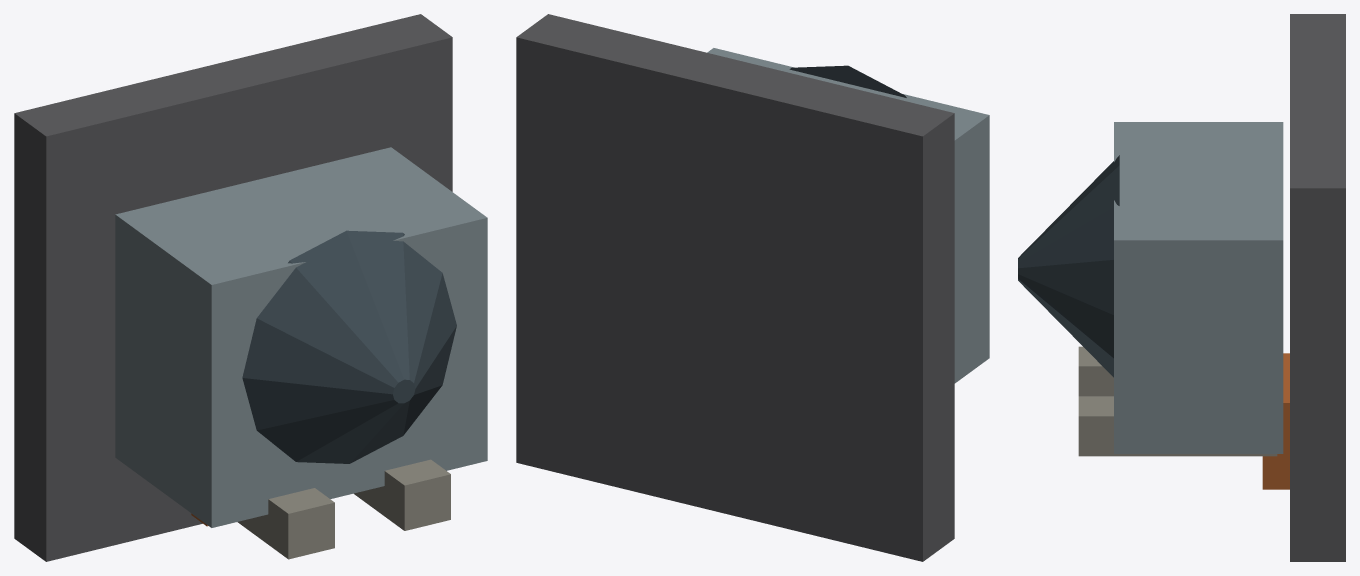
The model's file is shaler.obj.
3 renders of one model, left to right at view 1: azimuth 30°, elevation 25°; view 2: azimuth 150°, elevation 25°; view 3: azimuth 270°, elevation 25°, orthographic. The views are drawn at different scales.
Parts seen in each view (by area): view 1: shaler_stone_base, shaler_crusher_body, shaler_raw_feed_hopper, shaler_jaw_left, shaler_jaw_right; view 2: shaler_stone_base, shaler_crusher_body, shaler_raw_feed_hopper; view 3: shaler_crusher_body, shaler_stone_base, shaler_raw_feed_hopper, shaler_jaw_right, shaler_ore_chute, shaler_jaw_left.
Part boxes in pixels (left/top/right/bottom): shaler_stone_base: left=14, top=14, right=452, bottom=561; shaler_crusher_body: left=115, top=147, right=487, bottom=527; shaler_raw_feed_hopper: left=242, top=230, right=456, bottom=463; shaler_jaw_left: left=237, top=488, right=334, bottom=559; shaler_jaw_right: left=354, top=459, right=450, bottom=530; shaler_stone_base: left=516, top=14, right=954, bottom=561; shaler_crusher_body: left=707, top=48, right=989, bottom=383; shaler_raw_feed_hopper: left=789, top=65, right=906, bottom=97; shaler_crusher_body: left=1114, top=122, right=1283, bottom=453; shaler_stone_base: left=1290, top=14, right=1345, bottom=561; shaler_raw_feed_hopper: left=1018, top=155, right=1119, bottom=377; shaler_jaw_right: left=1078, top=396, right=1277, bottom=456; shaler_ore_chute: left=1262, top=353, right=1289, bottom=489; shaler_jaw_left: left=1078, top=346, right=1113, bottom=396.
Bounding box in the file's own units: 2.8 × 2.8 × 2.22.
